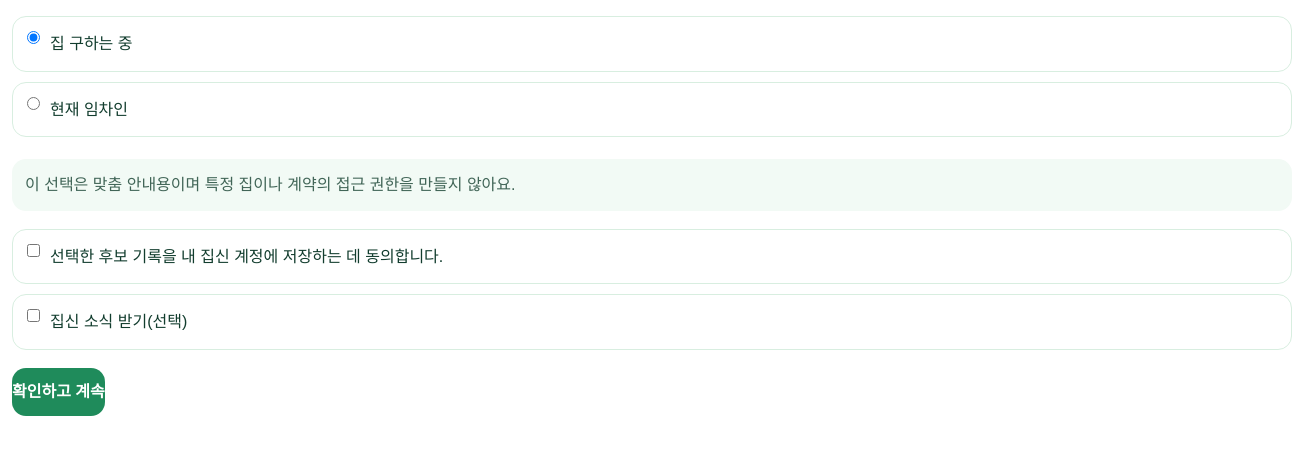
임차인 유입 확인 › 필수 동의 없이 제출하지 않는다
Click the button "확인하고 계속" at (58, 392), box [12, 368, 105, 416]
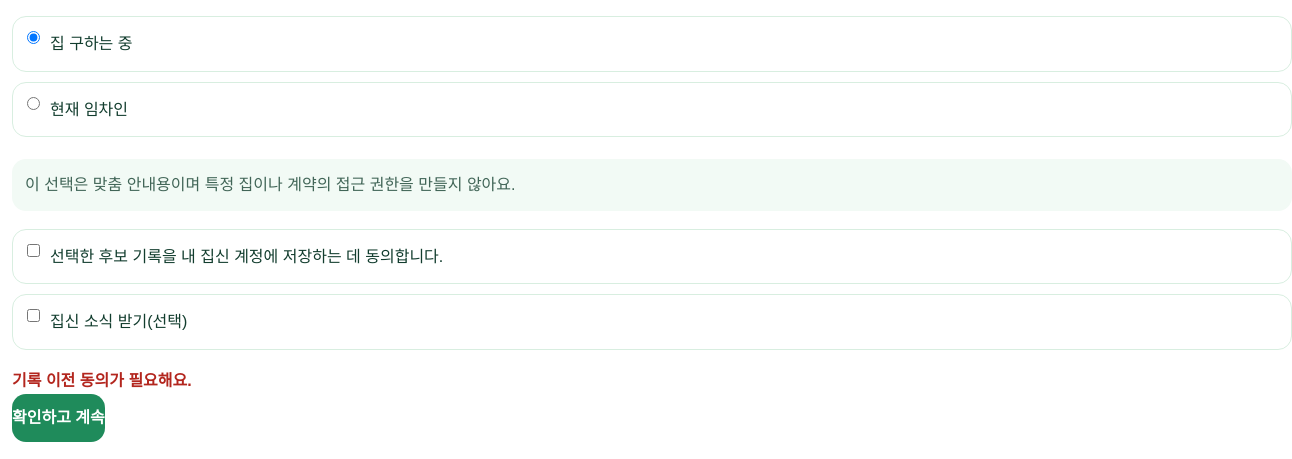
Expected: the message shows "기록 이전 동의", [12, 372, 192, 389]
